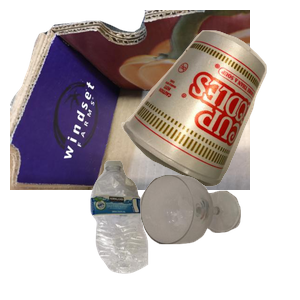cardboard: (10, 10, 250, 190)
glass: (138, 172, 300, 300)
plastic: (88, 158, 229, 300)
trash: (119, 28, 300, 207)
